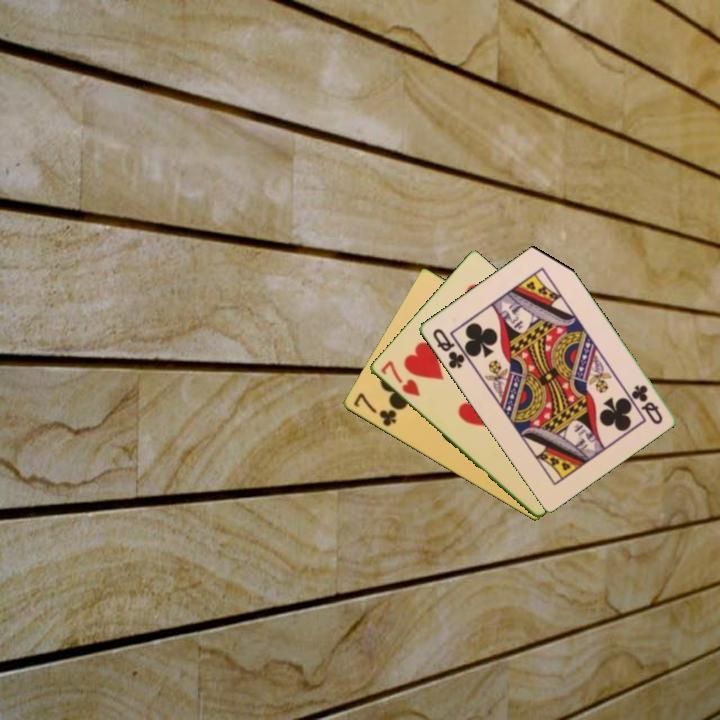7c: (350, 389, 399, 430)
7h: (377, 357, 423, 399)
Qc: (429, 324, 468, 372), (627, 381, 665, 427)
